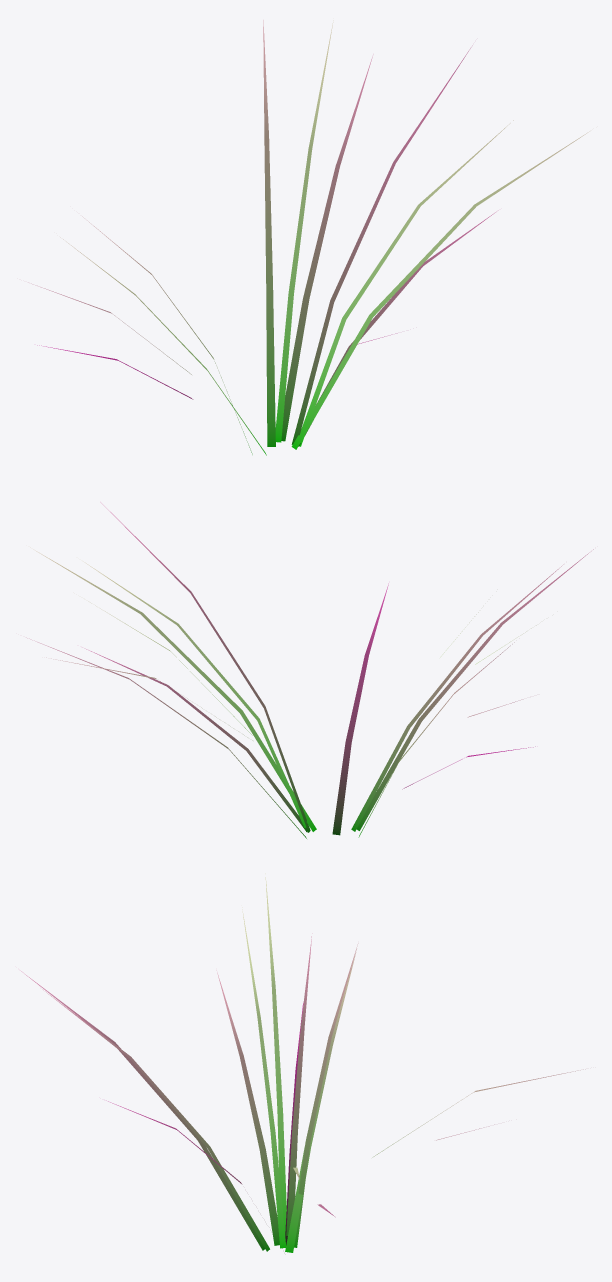
The model's file is grass_a_lod.glb.
3 views of the same model, one above another, from view 1: azimuth 30°, elevation 25°; view 2: azimuth 150°, elevation 25°; view 3: azimuth 270°, elevation 25° (orthographic). The views are drawn at different scales.
Visible parts, largest first — view 1: Grass_A_LOD; view 2: Grass_A_LOD; view 3: Grass_A_LOD.
Boxes of the visible parts, box(x1,y1,x2,y2) form: Grass_A_LOD: box(28, 20, 589, 455); Grass_A_LOD: box(26, 502, 593, 838); Grass_A_LOD: box(20, 873, 585, 1252).
Size of the model in its own units: 1.12 by 0.6215 by 1.05.
